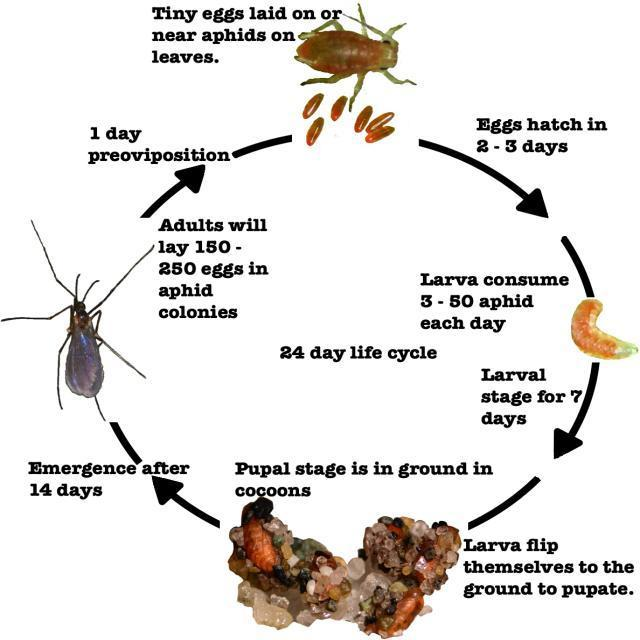Aphids: (19, 236, 154, 419), (274, 19, 442, 100)
